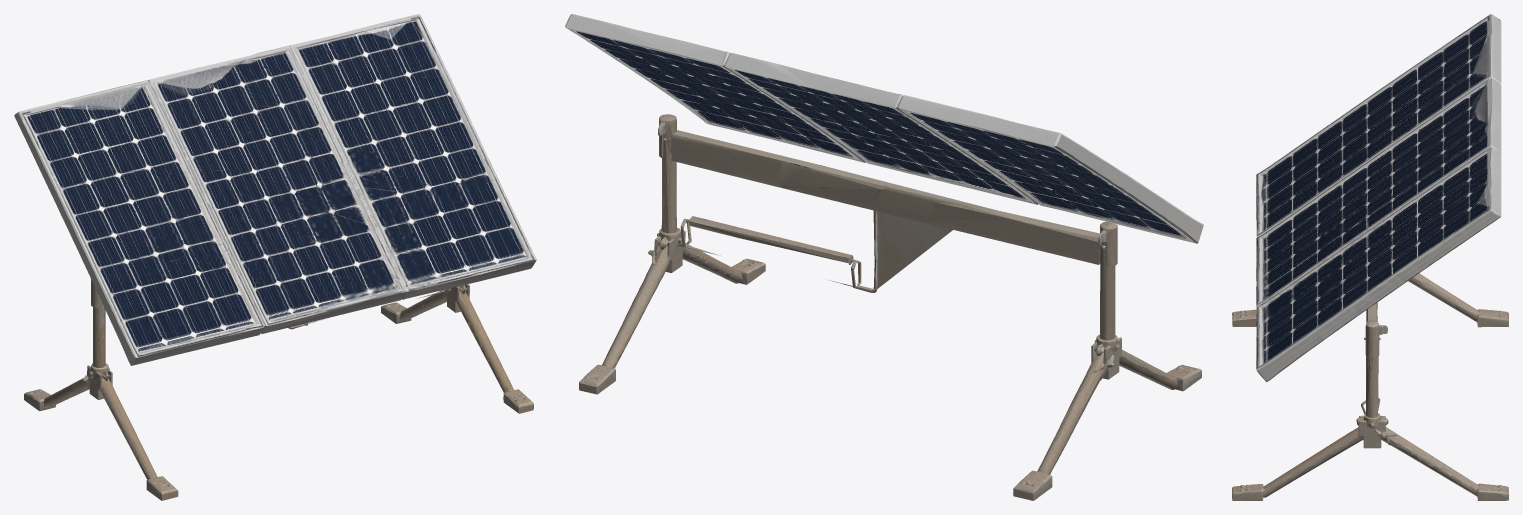
Rendered from solar_array.glb.
3 views of the same model, side by side, from view 1: azimuth 30°, elevation 25°; view 2: azimuth 150°, elevation 25°; view 3: azimuth 270°, elevation 25° (orthographic). The views are drawn at different scales.
Visible parts, largest first — view 1: mesh_node; view 2: mesh_node; view 3: mesh_node.
Boxes of the visible parts, x1,y1,x2,y2 form: mesh_node: [14, 14, 536, 500]; mesh_node: [565, 14, 1203, 500]; mesh_node: [1232, 14, 1508, 500].
Size of the model in its own units: 1.9 by 1.35 by 1.13.
Materials: 1 (1 with a texture image).
